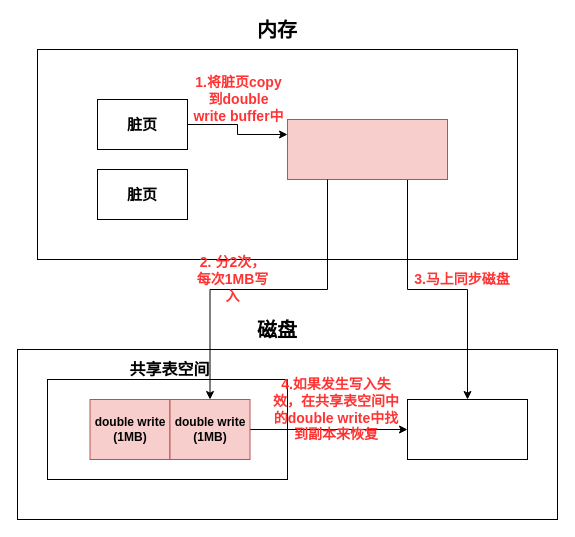
Image size: 575x537. Some labels were removed from this diagram. The shapes that lost their labels are listed below. From the top down, each one's centre as x and y in pixels, then its label:
the point at 367,149: double write buffer （2MB)
the point at 467,429: 数据文件
